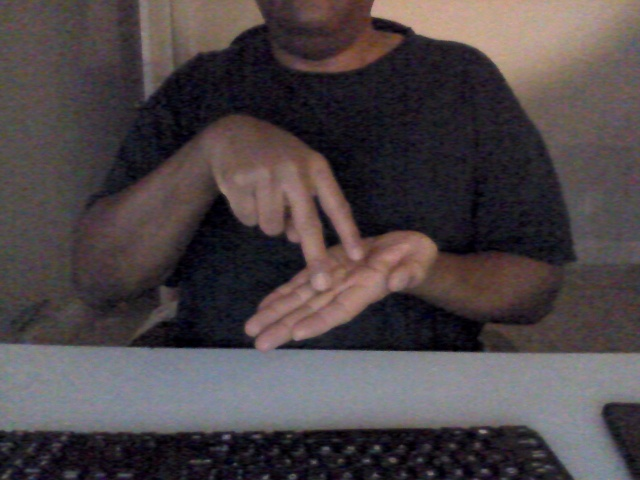fork: (196, 105, 449, 359)
